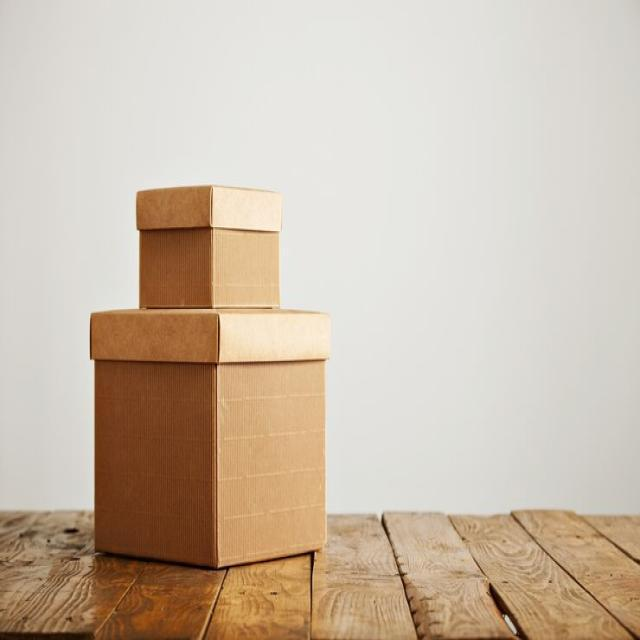BoxFace: (89, 309, 218, 569), (136, 188, 214, 310)
